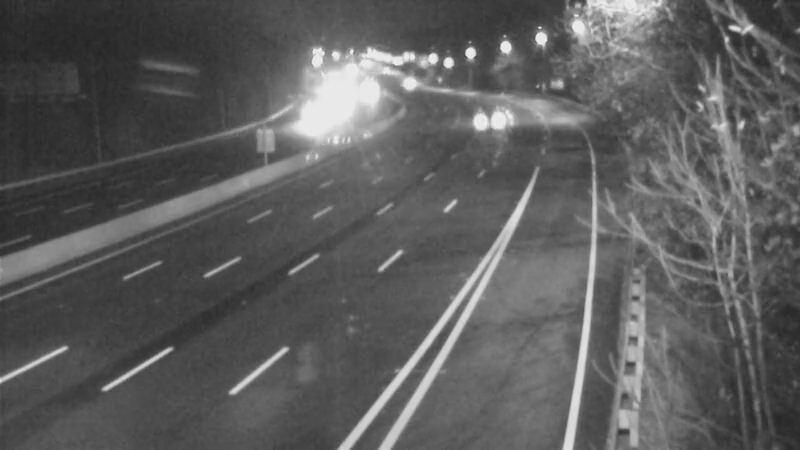vehicle: (386, 60, 436, 110), (458, 92, 508, 142), (287, 95, 337, 145)
